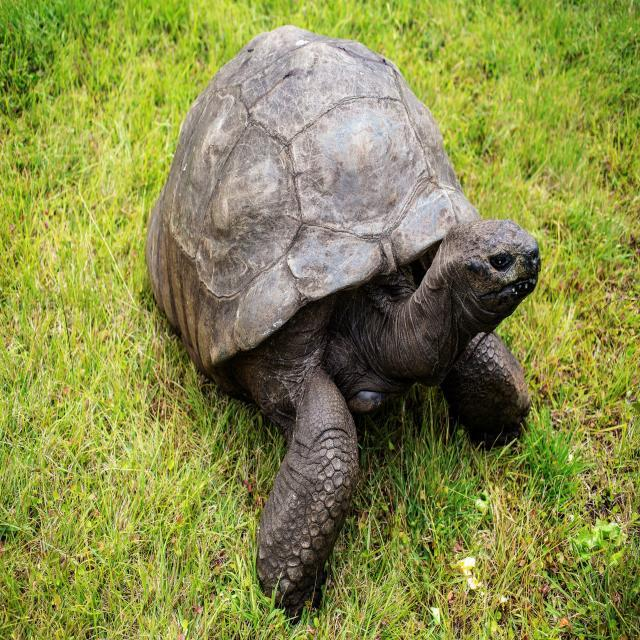Turtle: (152, 29, 547, 606)
